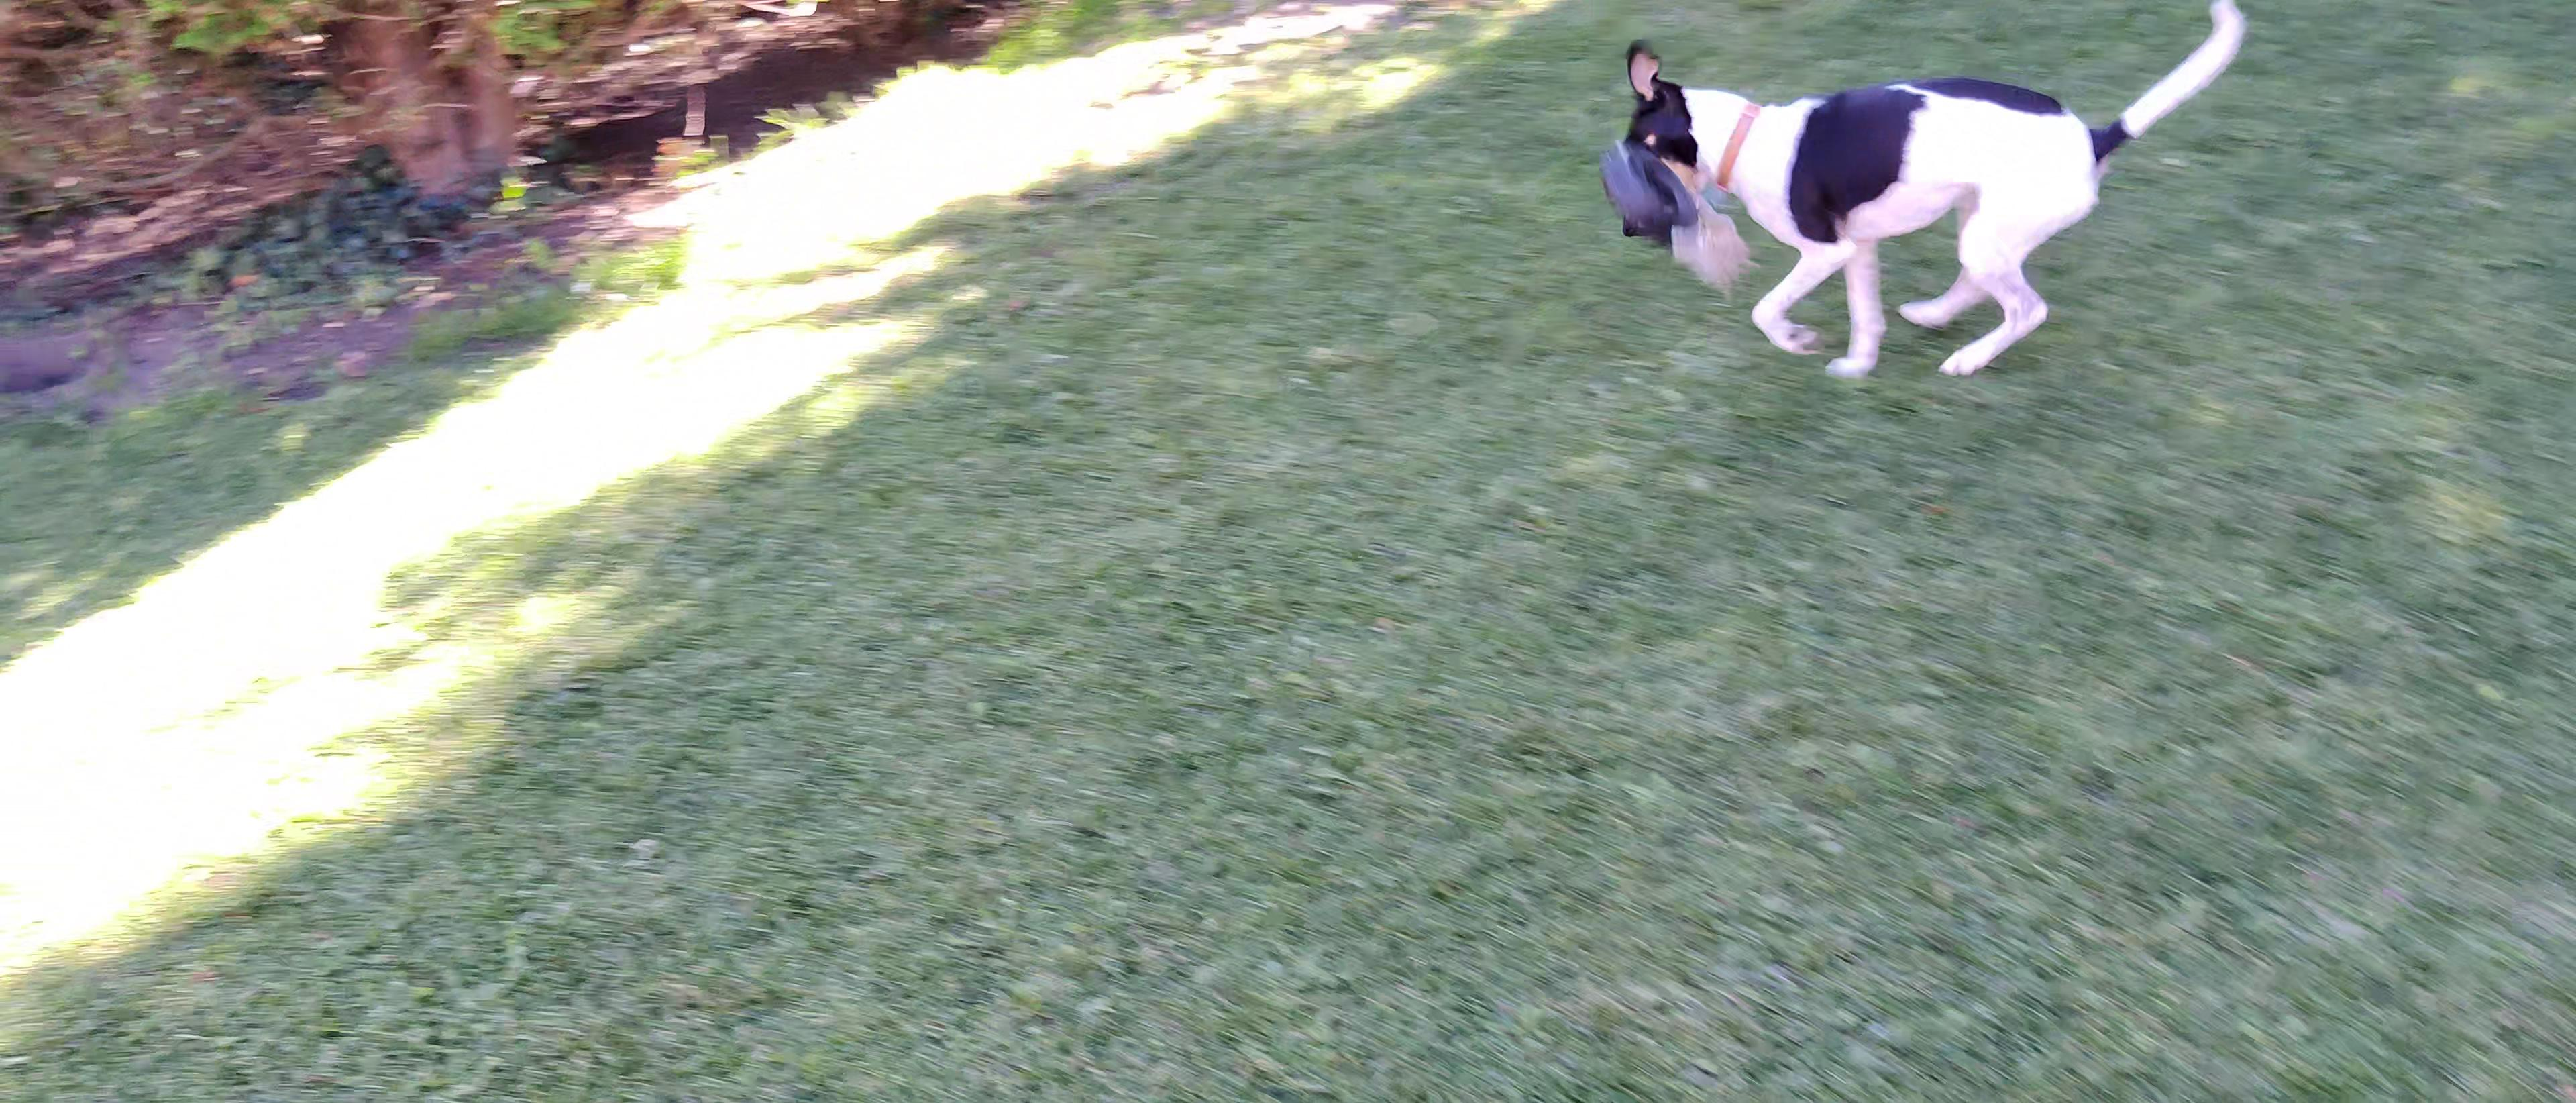Dog: (1615, 0, 2261, 380)
